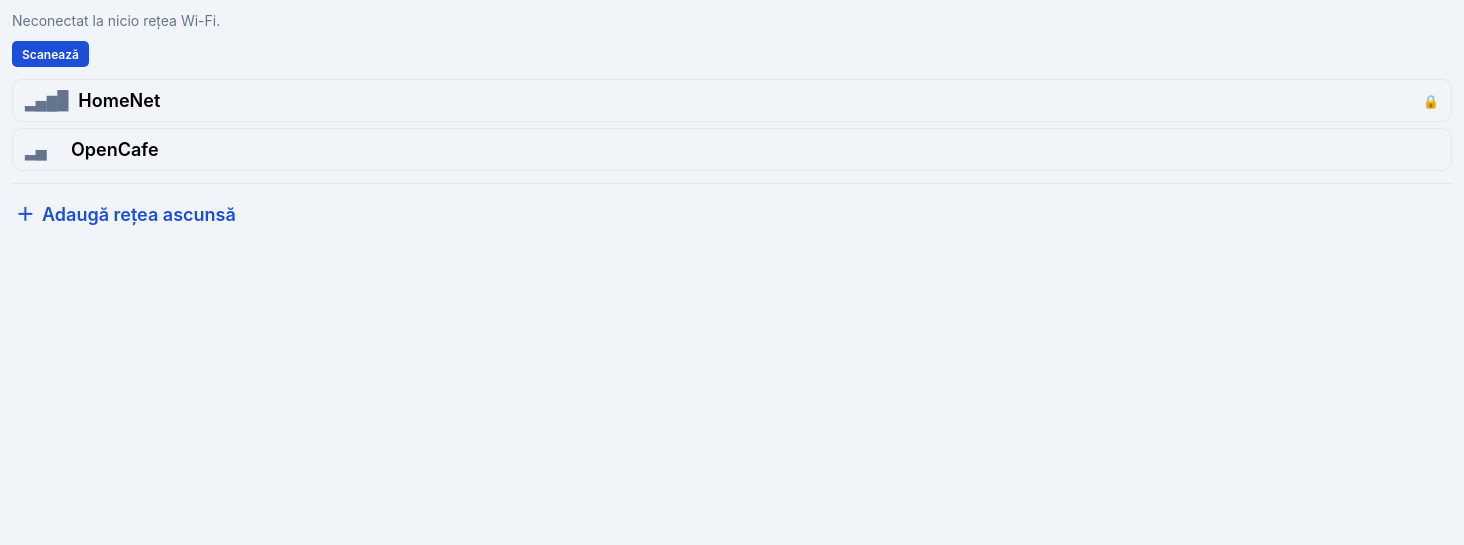
Test: WiFiManager.vue › types the hidden SSID with the on-screen keyboard
Click the button with class "wifi-hidden-toggle". click: {"x": 139, "y": 214}
box: [12,196,1452,233]
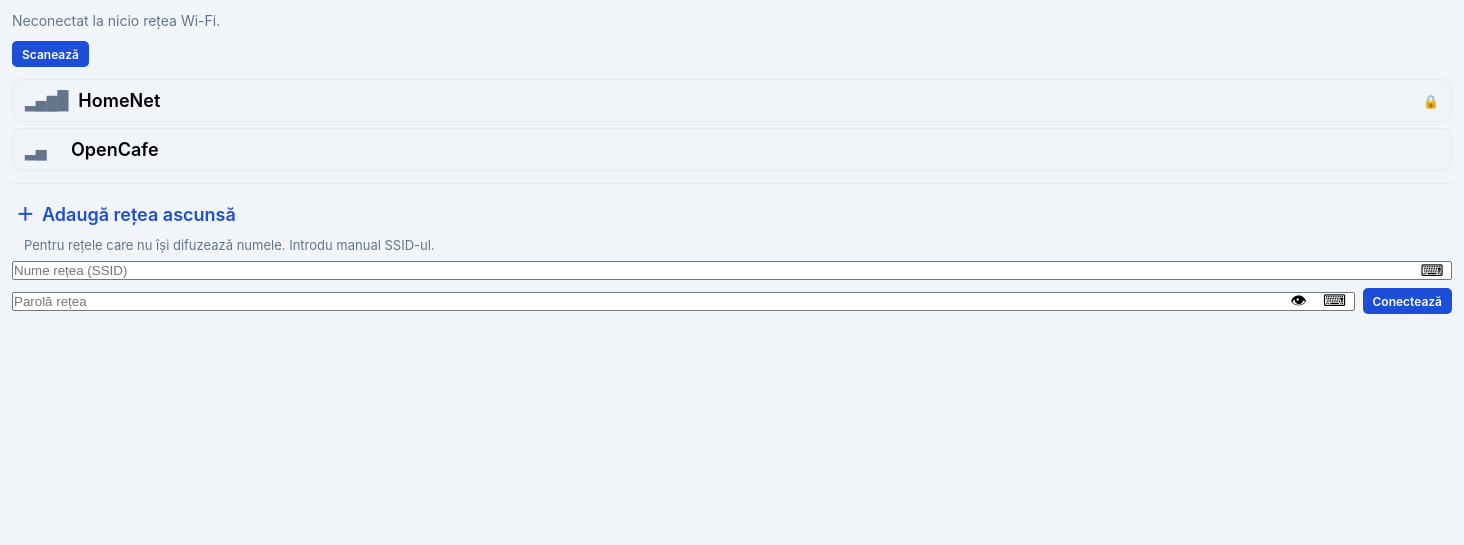
The SSID field's ⌨ button is the only button in its field.
Click the 1st button with class "wifi-pw-btn". click: {"x": 1432, "y": 270}
box: [1416,254,1448,286]
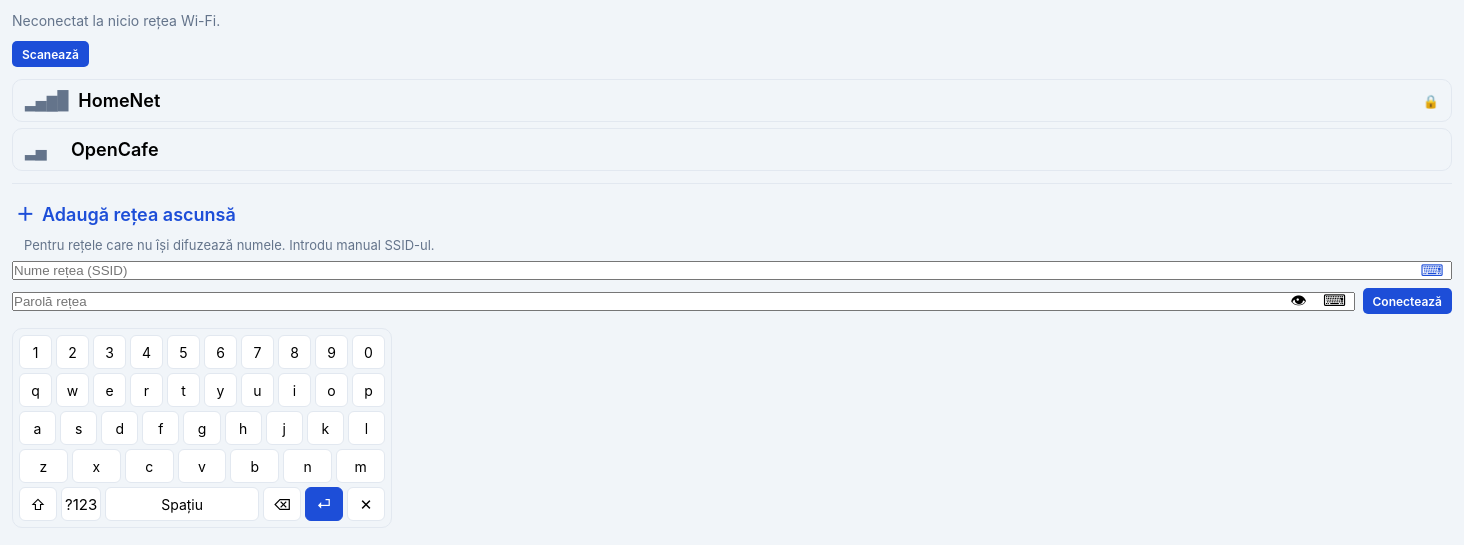
Expected: the element with class "osk" is shown, [12,328,392,528]
Click the button with class "osk-key" showing "a". click: {"x": 38, "y": 428}
box: [19,411,56,445]
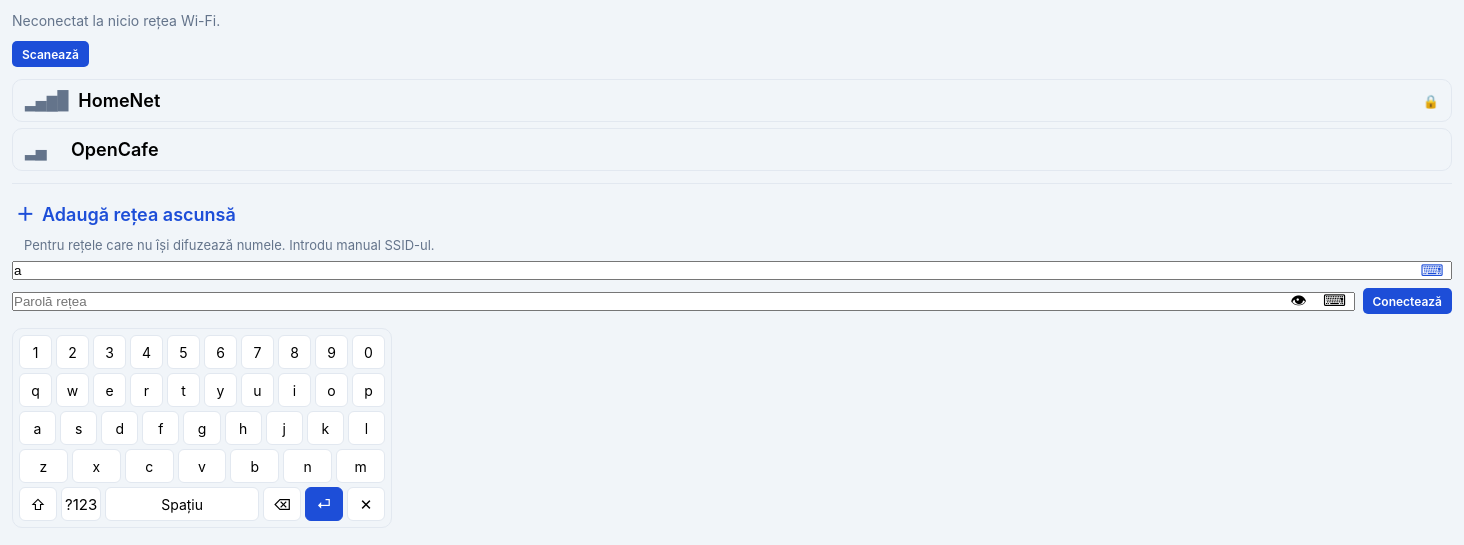
Click the button with class "osk-key" showing "p". click: {"x": 368, "y": 390}
box: [352,373,385,407]
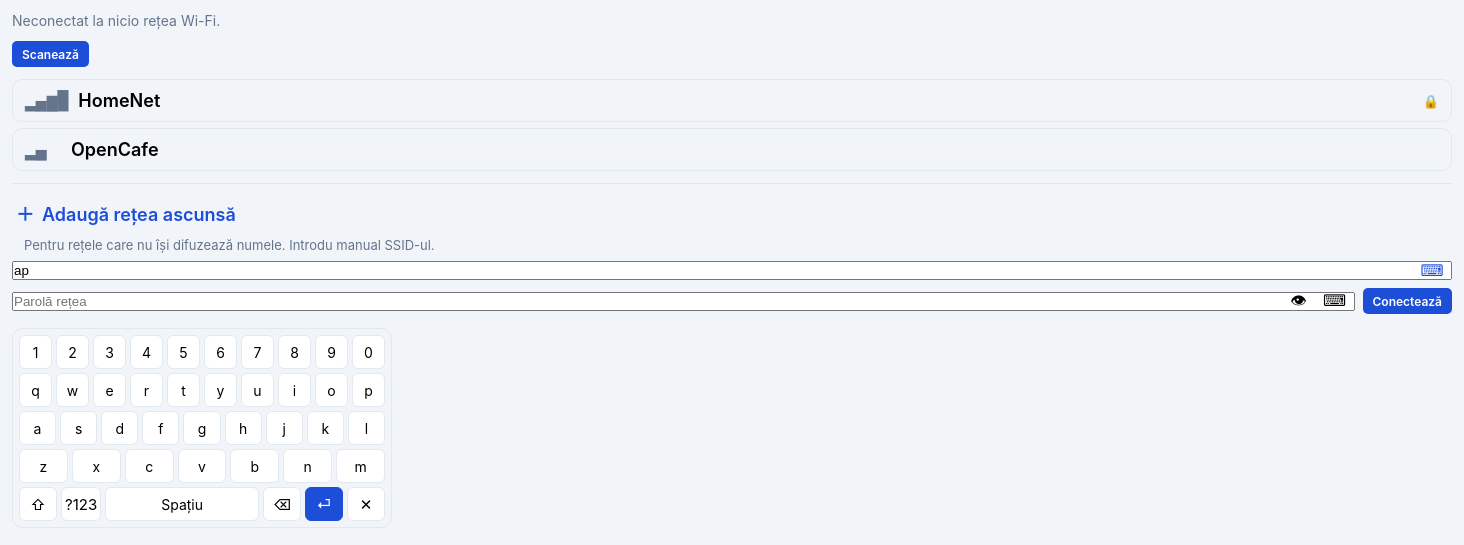
Expected: the field holds "ap", [12,261,1452,280]
